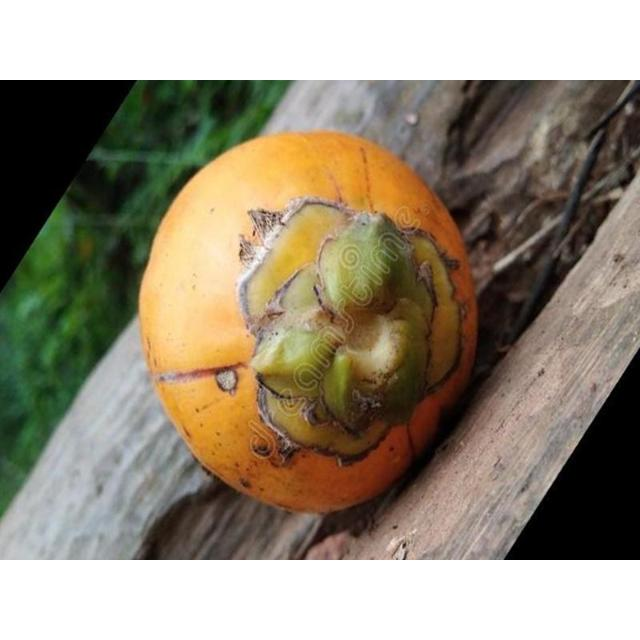good: (138, 131, 478, 515)
